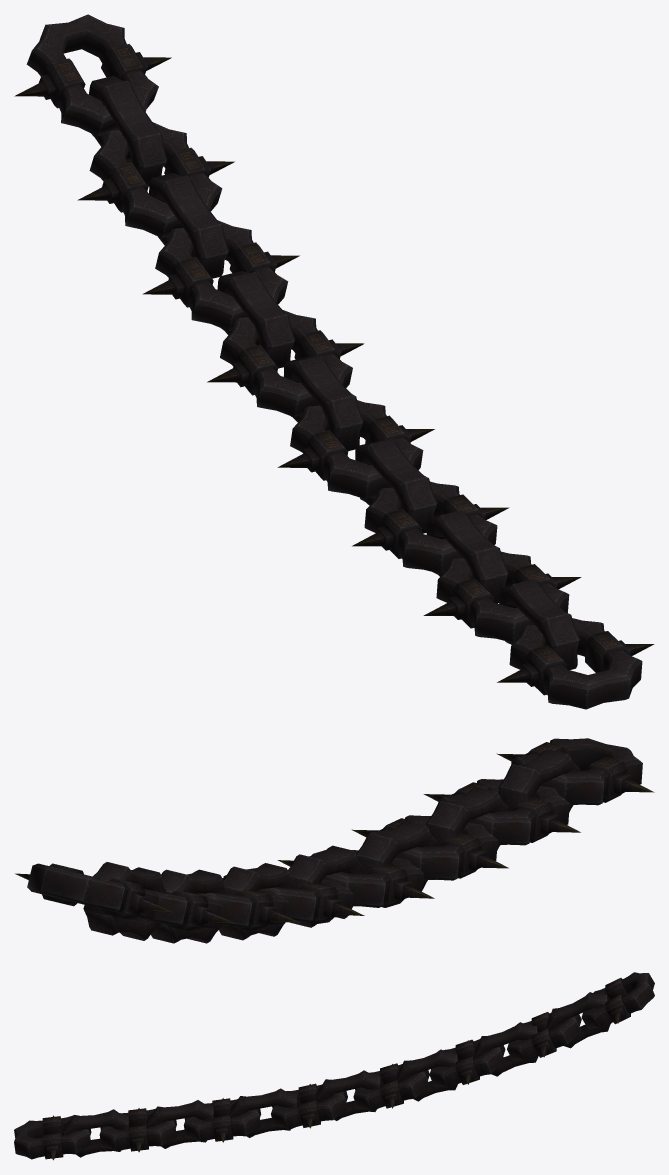
Rendered from S2_Build_XSC086.FBX.
The picture shows the model from 3 angles, top to bottom: view 1: azimuth 30°, elevation 25°; view 2: azimuth 150°, elevation 25°; view 3: azimuth 270°, elevation 25°; orthographic projection. The views are drawn at different scales.
Visible parts, largest first — view 1: S2_Build_XSC086; view 2: S2_Build_XSC086; view 3: S2_Build_XSC086.
Part boxes in pixels (bbox=[...]): S2_Build_XSC086: bbox=[14, 14, 654, 709]; S2_Build_XSC086: bbox=[15, 738, 654, 943]; S2_Build_XSC086: bbox=[14, 972, 654, 1160].
Size of the model in its own units: 62.33 by 113 by 373.
